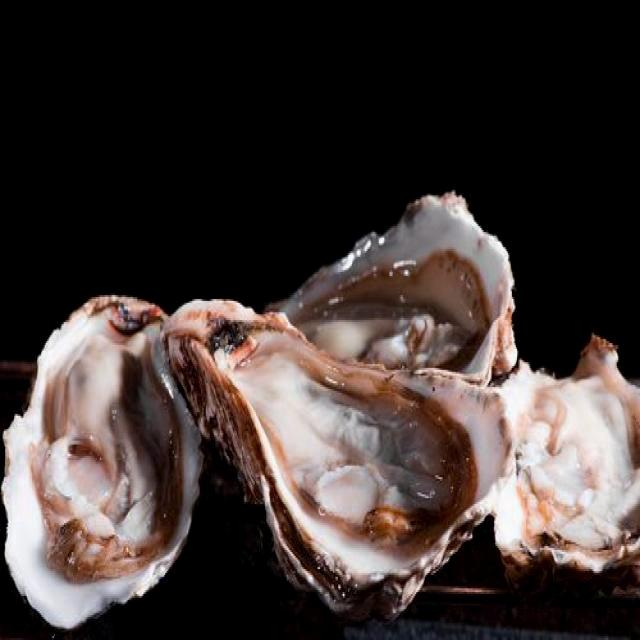Oyster-Open: (170, 296, 515, 623), (1, 296, 206, 633), (272, 191, 519, 384), (480, 336, 639, 609)
